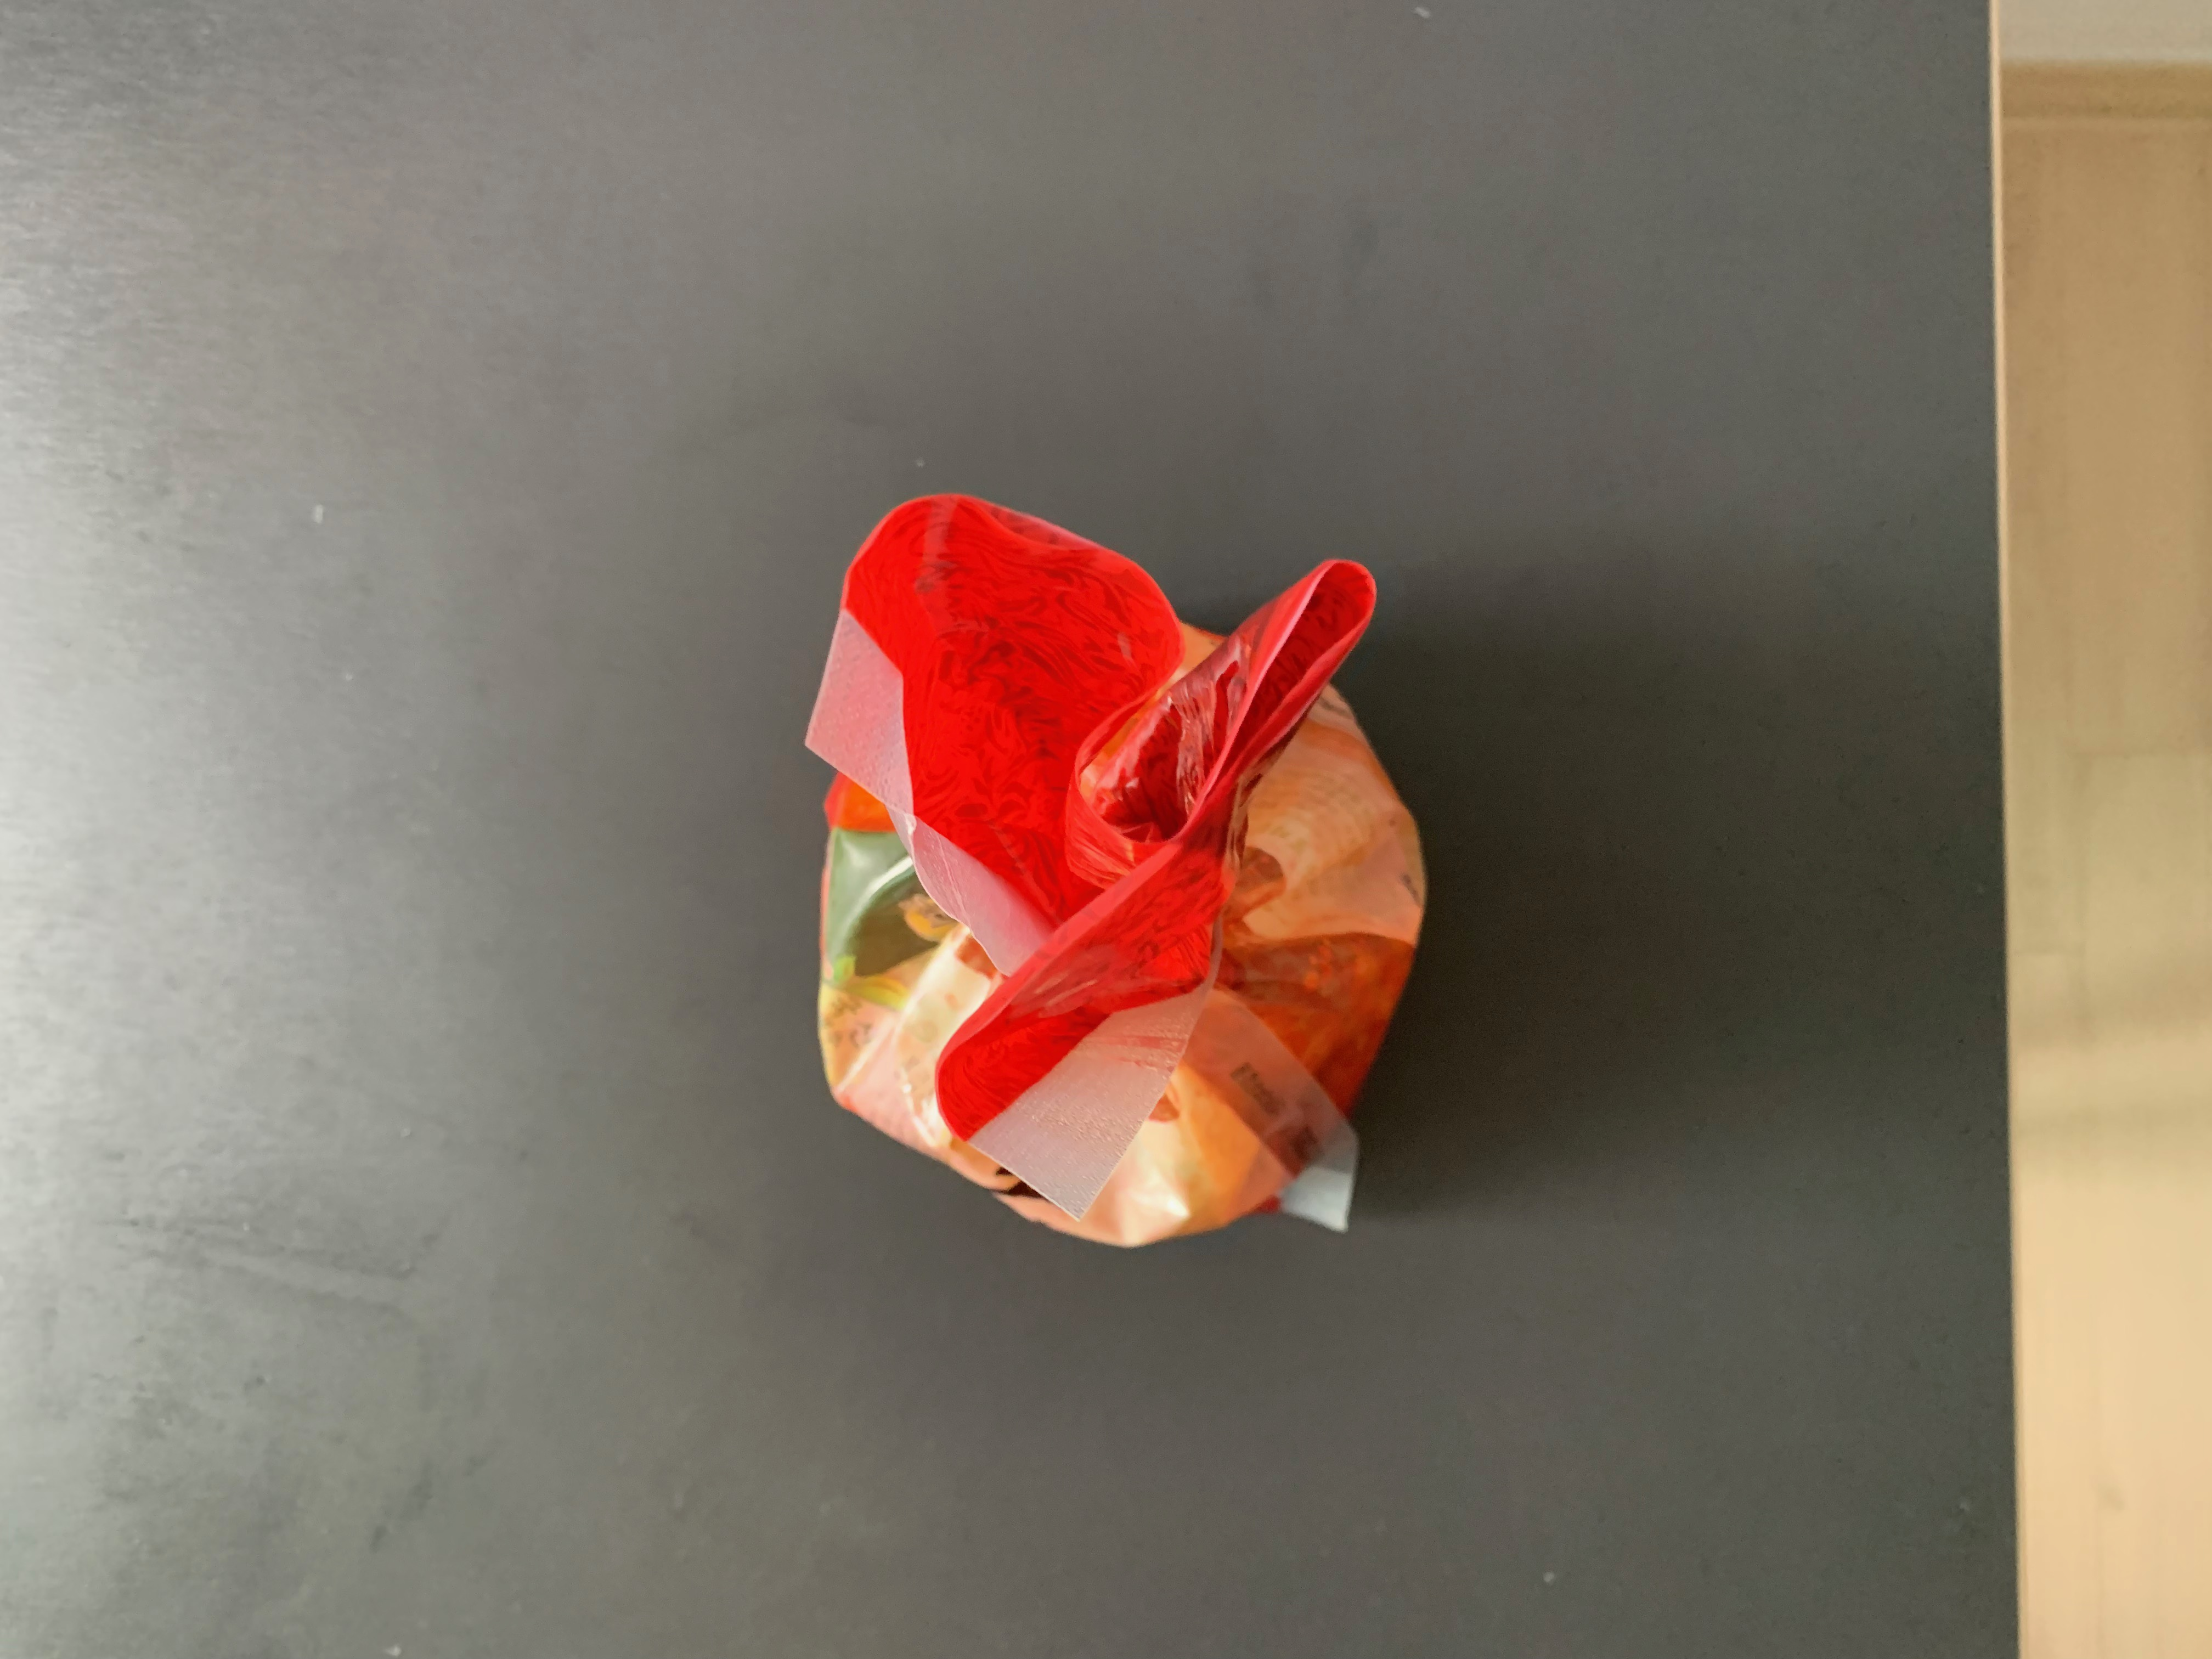kimchi: (820, 493, 1428, 1249)
